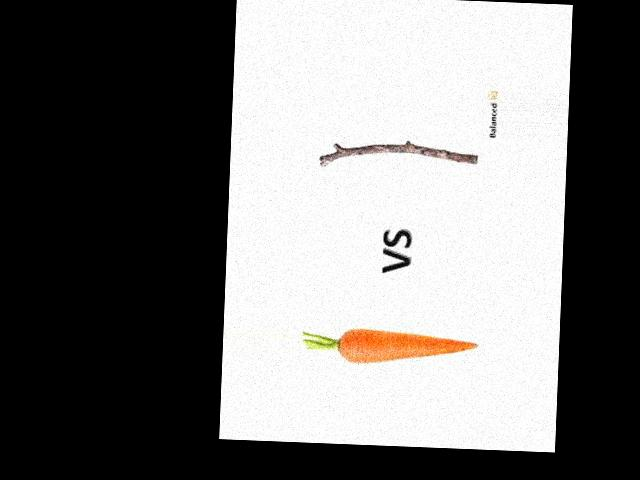carrot: (330, 321, 483, 370)
